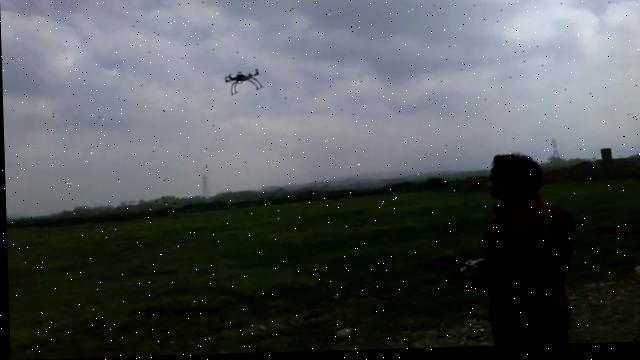drone: (223, 68, 265, 96)
